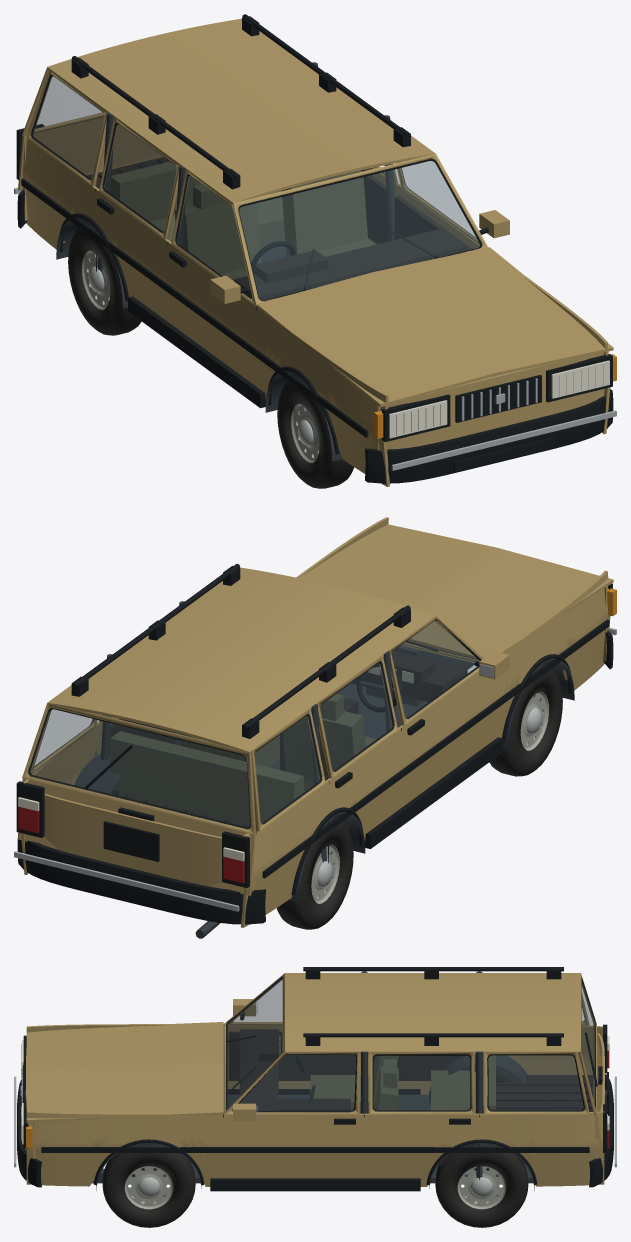
File: alder.glb
3 renders of one model, top to bottom at view 1: azimuth 30°, elevation 25°; view 2: azimuth 150°, elevation 25°; view 3: azimuth 270°, elevation 25°, orthographic. The views are drawn at different scales.
Parts seen in each view (by area): view 1: panel_RoofAlder, panel_hoodAlder, glass_FrontAlder, panel_FrontWingLAlder, panel_bumper_frontAlder, panel_BodyDoorLAlder, Interior Alder SeatBack1, Interior Alder Dashboard, panel_AlderfrontValance, glass_BodyDoorLAlder, glass_BodyDoorRearLAlder, glass_CargoLAlder (+36 smaller); view 2: panel_RoofAlder, panel_hoodAlder, glass_TailgateAlder, Interior Alder RearBack, panel_AlderrearValance, panel_bumper_rearAlder, panel_FrontWingLAlder, panel_BodyDoorLAlder, panel_RearQuarterLAlder, glass_BodyDoorLAlder, glass_BodyDoorRearLAlder, glass_CargoLAlder (+30 smaller); view 3: panel_RoofAlder, panel_hoodAlder, panel_FrontWingRAlder, panel_BodyDoorRAlder, panel_RearQuarterRAlder, panel_BodyDoorRearRAlder, glass_BodyDoorRearRAlder, glass_BodyDoorRAlder, glass_CargoRAlder, glass_FrontAlder, Tire_Marten_Carcass_FR, Tire_Marten_Carcass_RR (+41 smaller).
Part boxes in pixels (x1,y1,x2,y2): panel_RoofAlder: (47, 18, 435, 202); panel_hoodAlder: (256, 247, 613, 407); glass_FrontAlder: (239, 161, 479, 300); panel_FrontWingLAlder: (253, 307, 389, 486); panel_bumper_frontAlder: (365, 389, 613, 483); panel_BodyDoorLAlder: (165, 241, 256, 386); Interior Alder SeatBack1: (282, 170, 367, 256); Interior Alder Dashboard: (234, 228, 467, 300); panel_AlderfrontValance: (376, 352, 604, 450); glass_BodyDoorLAlder: (177, 176, 251, 296); glass_BodyDoorRearLAlder: (104, 124, 176, 231); glass_CargoLAlder: (33, 76, 104, 178); panel_RoofAlder: (47, 567, 435, 752); panel_hoodAlder: (299, 524, 613, 658); glass_TailgateAlder: (30, 709, 250, 827); Interior Alder RearBack: (110, 731, 303, 822); panel_AlderrearValance: (44, 793, 254, 891); panel_bumper_rearAlder: (17, 832, 265, 924); panel_FrontWingLAlder: (489, 570, 610, 742); panel_BodyDoorLAlder: (399, 671, 492, 807); panel_RearQuarterLAlder: (240, 780, 331, 927); glass_BodyDoorLAlder: (392, 621, 479, 717); glass_BodyDoorRearLAlder: (320, 663, 392, 769); glass_CargoLAlder: (255, 716, 319, 822); panel_RoofAlder: (285, 973, 580, 1053); panel_hoodAlder: (26, 1022, 223, 1122); panel_FrontWingRAlder: (26, 1111, 223, 1186); panel_BodyDoorRAlder: (223, 1113, 364, 1178); panel_RearQuarterRAlder: (479, 1111, 604, 1186); panel_BodyDoorRearRAlder: (364, 1113, 479, 1186); glass_BodyDoorRearRAlder: (373, 1055, 470, 1110); glass_BodyDoorRAlder: (239, 1055, 356, 1110); glass_CargoRAlder: (488, 1055, 583, 1110); glass_FrontAlder: (227, 979, 282, 1108); Tire_Marten_Carcass_FR: (102, 1144, 195, 1227); Tire_Marten_Carcass_RR: (435, 1144, 528, 1227).
Bounding box in the file's own units: 2.14 × 1.67 × 4.93.
